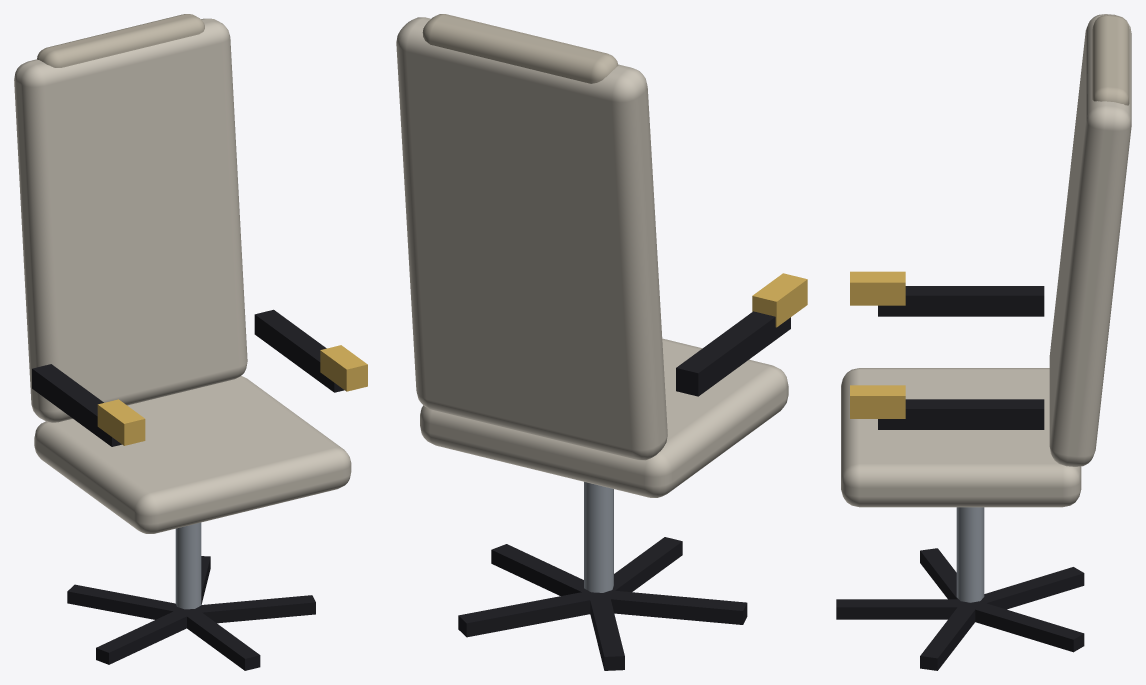
File: cadeira-presidente.glb
3 views of the same model, side by side, from view 1: azimuth 30°, elevation 25°; view 2: azimuth 150°, elevation 25°; view 3: azimuth 270°, elevation 25° (orthographic). The views are drawn at different scales.
Parts seen in each view (by area): view 1: cadeira-presidente_malha; view 2: cadeira-presidente_malha; view 3: cadeira-presidente_malha.
Boxes of the visible parts, left/top/right/bottom form: cadeira-presidente_malha: left=14, top=14, right=367, bottom=670; cadeira-presidente_malha: left=396, top=14, right=807, bottom=670; cadeira-presidente_malha: left=836, top=14, right=1131, bottom=670.
Size of the model in its own units: 0.635 by 1.35 by 0.6387.
